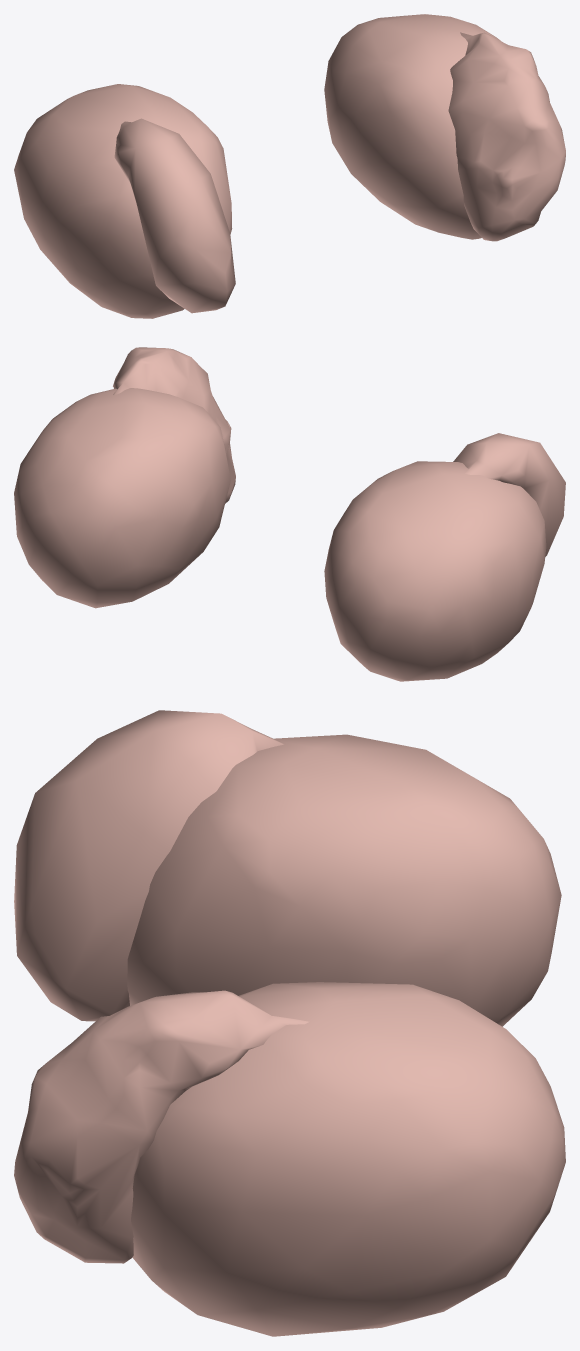
File: lowerlimb__organs.0b612b81a6.glb
3 views of the same model, one above another, from view 1: azimuth 30°, elevation 25°; view 2: azimuth 150°, elevation 25°; view 3: azimuth 270°, elevation 25° (orthographic). The views are drawn at different scales.
Visible parts, largest first — view 1: FMA7211, FMA7212, FMA18257, FMA18256; view 2: FMA7211, FMA7212, FMA18256, FMA18257; view 3: FMA7212, FMA7211, FMA18256, FMA18257.
Part boxes in pixels (x1,y1,x2,y2): FMA7211: [14, 84, 232, 318]; FMA7212: [324, 14, 500, 239]; FMA18257: [448, 32, 565, 241]; FMA18256: [114, 118, 235, 313]; FMA7211: [324, 461, 546, 681]; FMA7212: [14, 388, 230, 608]; FMA18256: [453, 433, 565, 556]; FMA18257: [113, 347, 235, 503]; FMA7212: [131, 982, 565, 1336]; FMA7211: [127, 734, 561, 1026]; FMA18256: [14, 710, 283, 1021]; FMA18257: [14, 990, 309, 1263].
Size of the model in its own units: 58.87 by 24.36 by 35.55.
